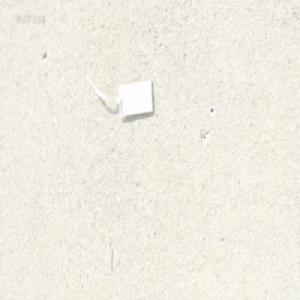LuggageTag: (83, 71, 154, 122)
